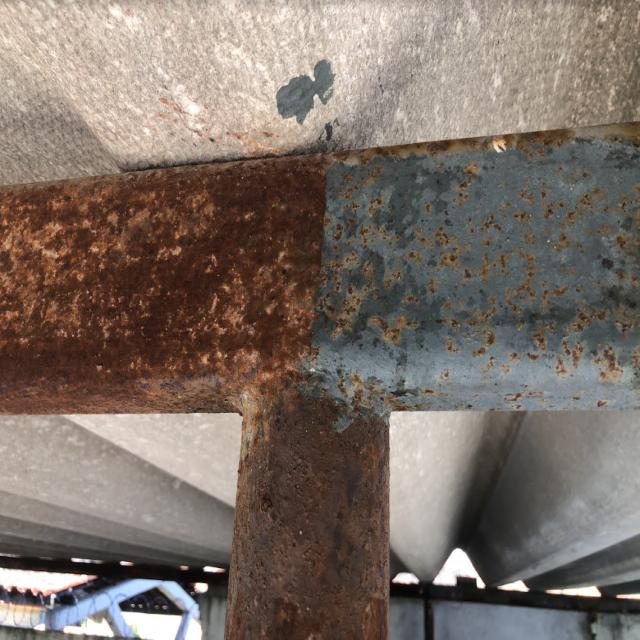corrosion: (0, 119, 640, 640), (314, 148, 640, 409)
